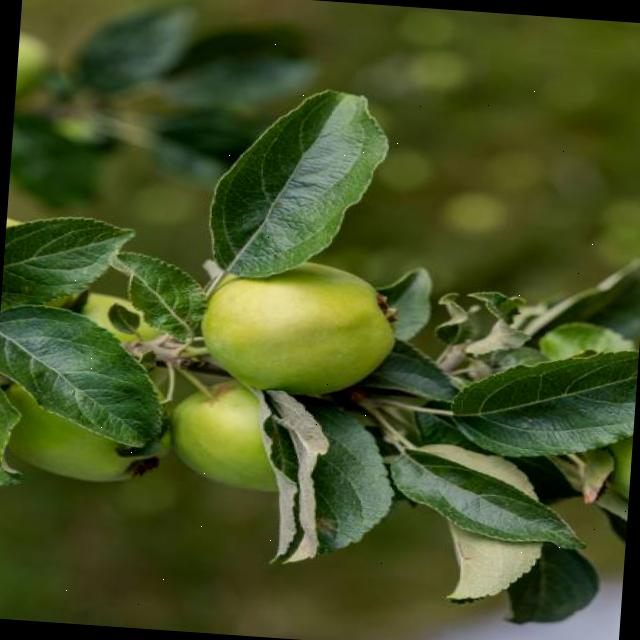Unripe: (194, 251, 401, 402)
